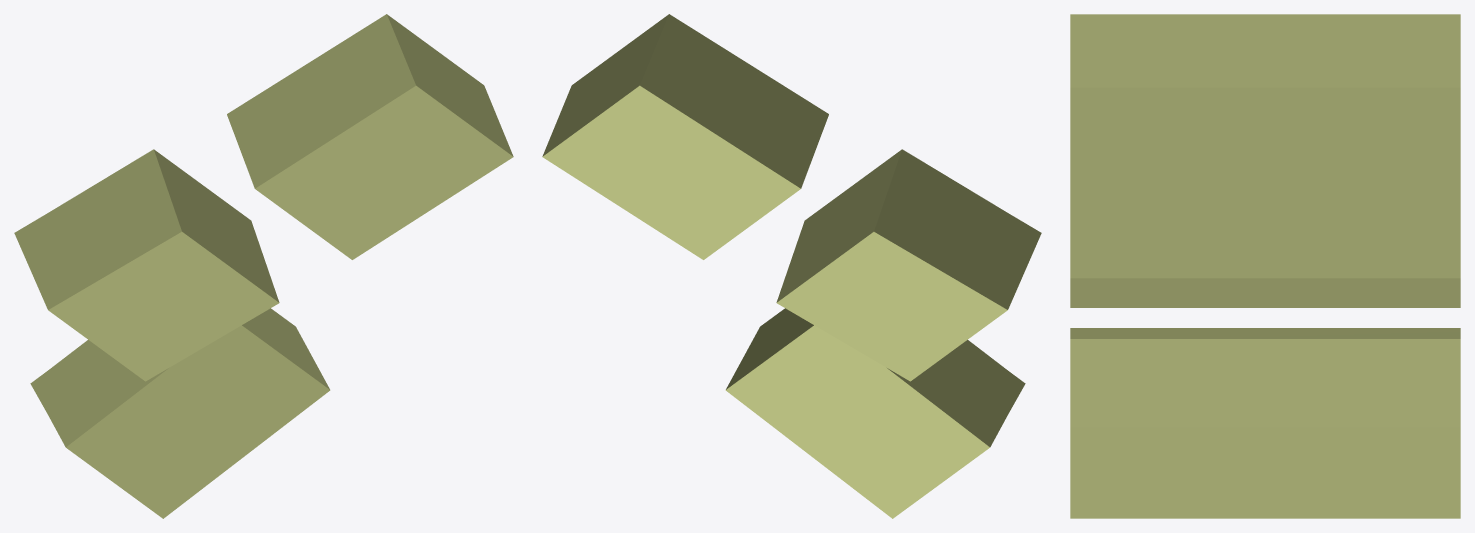
The picture shows the model from 3 angles, left to right: view 1: azimuth 30°, elevation 25°; view 2: azimuth 150°, elevation 25°; view 3: azimuth 270°, elevation 25°; orthographic projection. The views are drawn at different scales.
Parts seen in each view (by area): view 1: 0_1_2_0_3_3_0_2_0_0; view 2: 0_1_2_0_3_3_0_2_0_0; view 3: 0_1_2_0_3_3_0_2_0_0.
Part boxes in pixels (bbox=[...]): 0_1_2_0_3_3_0_2_0_0: bbox=[14, 14, 513, 518]; 0_1_2_0_3_3_0_2_0_0: bbox=[542, 14, 1041, 518]; 0_1_2_0_3_3_0_2_0_0: bbox=[1070, 14, 1460, 518].
Size of the model in its own units: 21.41 by 18.08 by 9.
